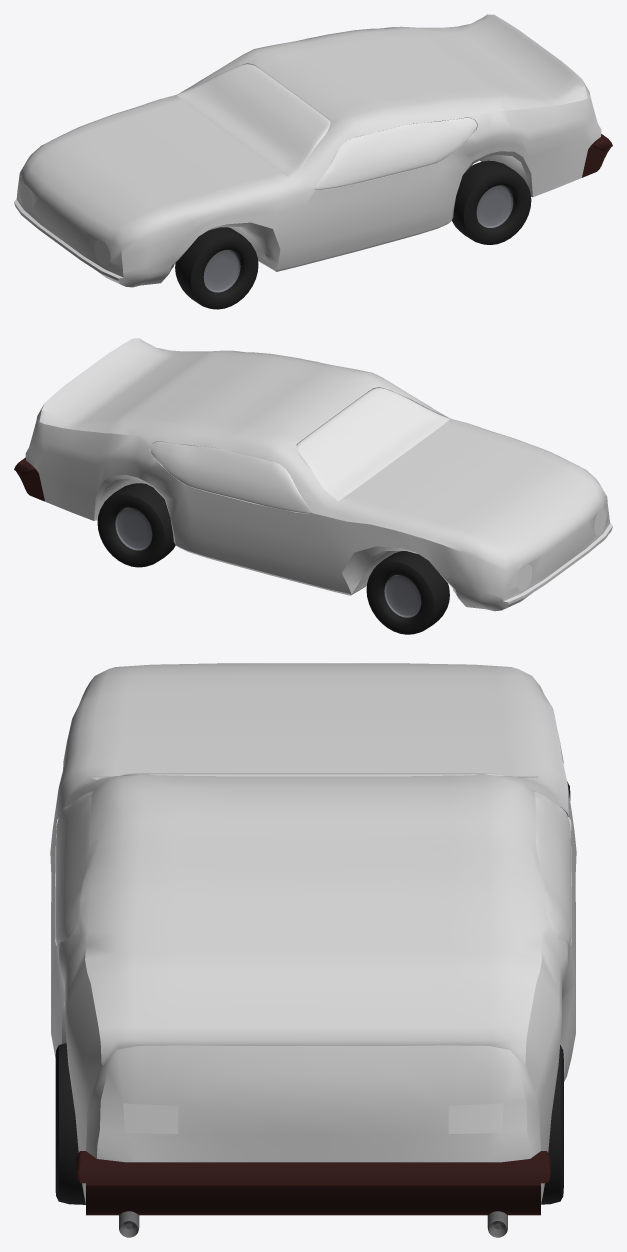
Rendered from Stock car 80s version.fbx.
The picture shows the model from 3 angles, top to bottom: view 1: azimuth 30°, elevation 25°; view 2: azimuth 150°, elevation 25°; view 3: azimuth 270°, elevation 25°; orthographic projection. The views are drawn at different scales.
Parts seen in each view (by area): view 1: Body, Window Front, Windows Side Veiw, Back Wheels, Front Wheels, Cube; view 2: Body, Window Front, Windows Side Veiw, Front Wheels, Back Wheels, Cube; view 3: Body, Cube, Windows Side Veiw, Back Wheels, Window Front, Body.002.
Boxes of the visible parts, box(x1,y1,x2,y2) form: Body: box(14, 14, 601, 287); Window Front: box(177, 64, 330, 177); Windows Side Veiw: box(315, 117, 477, 189); Back Wheels: box(452, 160, 531, 244); Front Wheels: box(175, 227, 258, 309); Cube: box(582, 134, 612, 177); Body: box(25, 338, 612, 611); Window Front: box(296, 388, 449, 500); Windows Side Veiw: box(149, 441, 311, 513); Front Wheels: box(366, 551, 449, 634); Back Wheels: box(97, 483, 175, 567); Cube: box(14, 457, 44, 501); Body: box(50, 663, 576, 1203); Cube: box(76, 1151, 550, 1215); Windows Side Veiw: box(55, 791, 571, 945); Back Wheels: box(55, 1043, 563, 1204); Window Front: box(90, 773, 536, 779); Body.002: box(119, 1211, 507, 1237).
Size of the model in its own units: 351 by 99.32 by 162.
